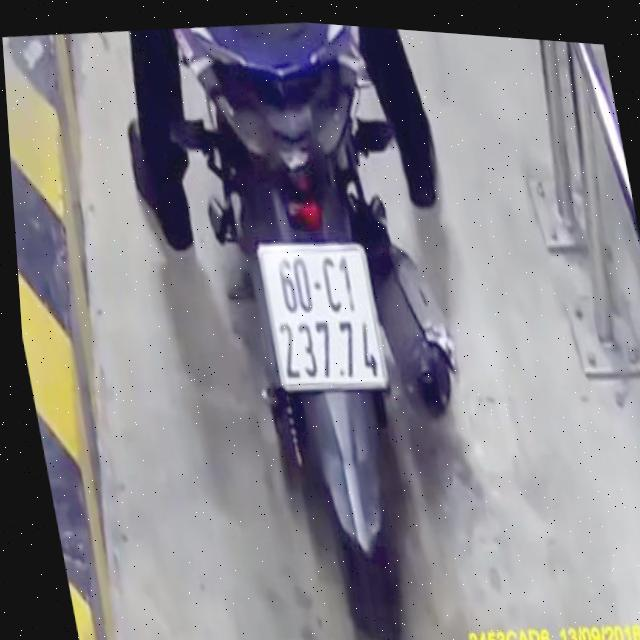motorcycle: (144, 11, 535, 640)
plate: (235, 213, 408, 415)
